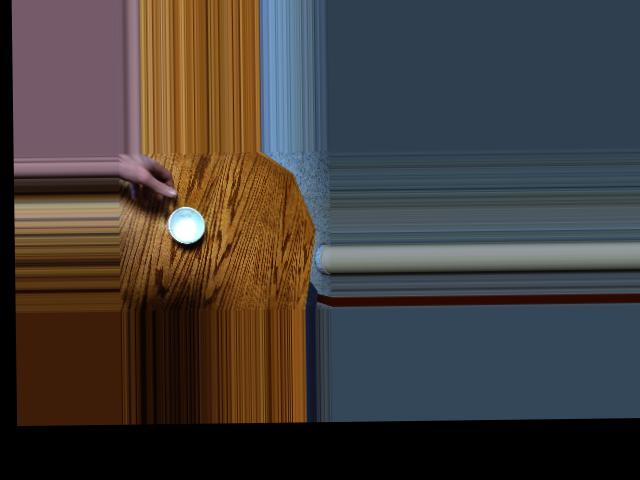cotage: (158, 203, 205, 243)
